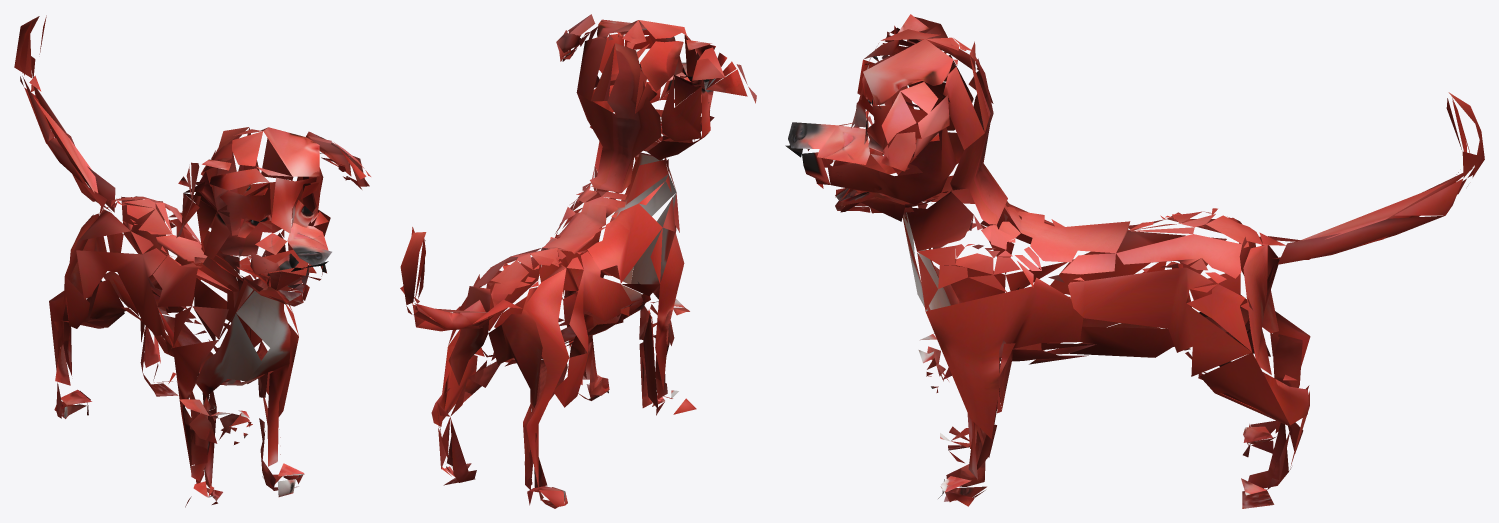
File: decimate_heart_1K.glb
3 renders of one model, left to right at view 1: azimuth 30°, elevation 25°; view 2: azimuth 150°, elevation 25°; view 3: azimuth 270°, elevation 25°, orthographic. The views are drawn at different scales.
Visible parts, largest first — view 1: Mesh_0.004; view 2: Mesh_0.004; view 3: Mesh_0.004.
Part boxes in pixels (x1,y1,x2,y2): Mesh_0.004: (14,15,370,507); Mesh_0.004: (400,14,756,508); Mesh_0.004: (785,14,1484,508).
Size of the model in its own units: 0.759 by 1.4 by 2.
1 material, 1 textured.
